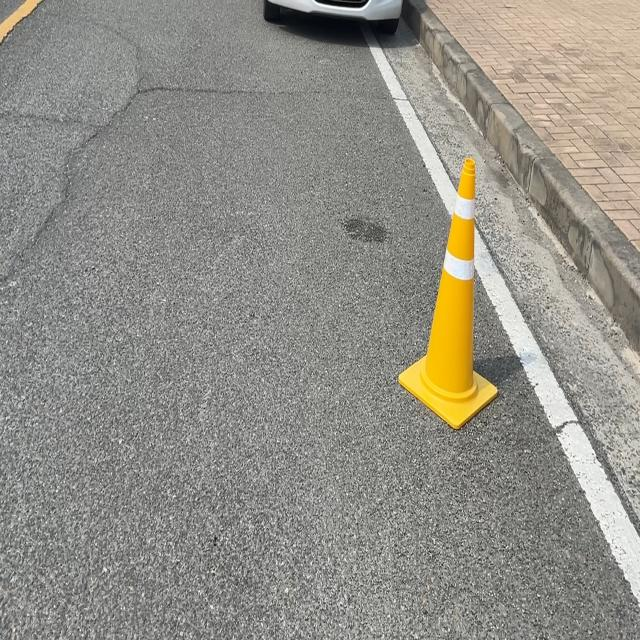y_rub: (399, 157, 498, 428)
